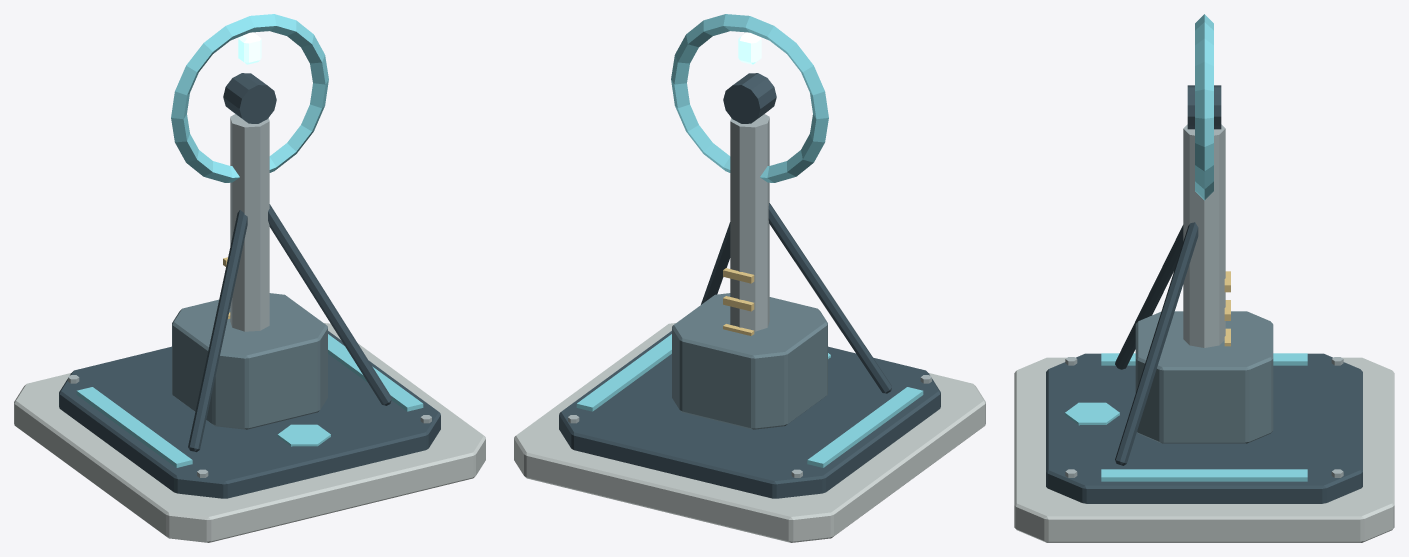
File: relay.glb
The picture shows the model from 3 angles, left to right: view 1: azimuth 30°, elevation 25°; view 2: azimuth 150°, elevation 25°; view 3: azimuth 270°, elevation 25°; orthographic projection. The views are drawn at different scales.
Parts seen in each view (by area): view 1: asset_relay__FP_Dark, foundation, foot, asset_relay__FP_Team, asset_relay__FP_Steel, Hexagon, signal; view 2: asset_relay__FP_Dark, foundation, foot, asset_relay__FP_Team, asset_relay__FP_Steel, asset_relay__FP_Hazard, signal; view 3: asset_relay__FP_Dark, foundation, foot, asset_relay__FP_Steel, asset_relay__FP_Team, Hexagon.
Boxes of the visible parts, bbox=[...] form: asset_relay__FP_Dark: bbox=[59, 73, 440, 498]; foundation: bbox=[14, 323, 485, 542]; foot: bbox=[172, 293, 327, 429]; asset_relay__FP_Team: bbox=[76, 14, 423, 467]; asset_relay__FP_Steel: bbox=[68, 114, 431, 477]; Hexagon: bbox=[277, 424, 330, 446]; signal: bbox=[238, 32, 261, 64]; asset_relay__FP_Dark: bbox=[559, 73, 940, 498]; foundation: bbox=[514, 323, 985, 542]; foot: bbox=[672, 293, 827, 429]; asset_relay__FP_Team: bbox=[576, 14, 923, 467]; asset_relay__FP_Steel: bbox=[568, 114, 931, 477]; asset_relay__FP_Hazard: bbox=[723, 268, 754, 335]; signal: bbox=[738, 32, 761, 64]; asset_relay__FP_Dark: bbox=[1046, 85, 1362, 503]; foundation: bbox=[1014, 357, 1394, 542]; foot: bbox=[1135, 311, 1273, 443]; asset_relay__FP_Steel: bbox=[1065, 124, 1343, 477]; asset_relay__FP_Team: bbox=[1101, 14, 1307, 481]; Hexagon: bbox=[1065, 402, 1119, 424].
Bounding box in the file's own units: 1.8 × 2.31 × 1.8.
